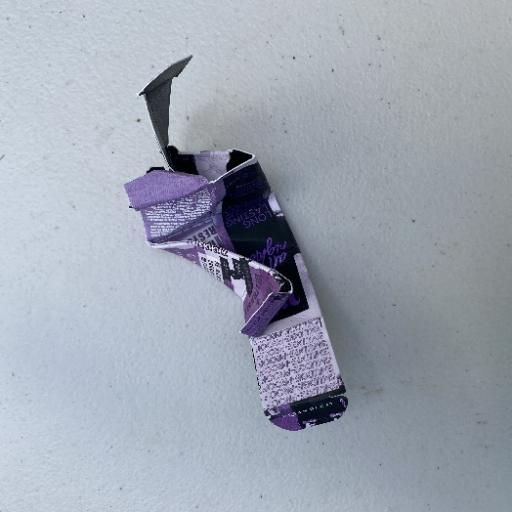Cardboard: (122, 54, 350, 433)
